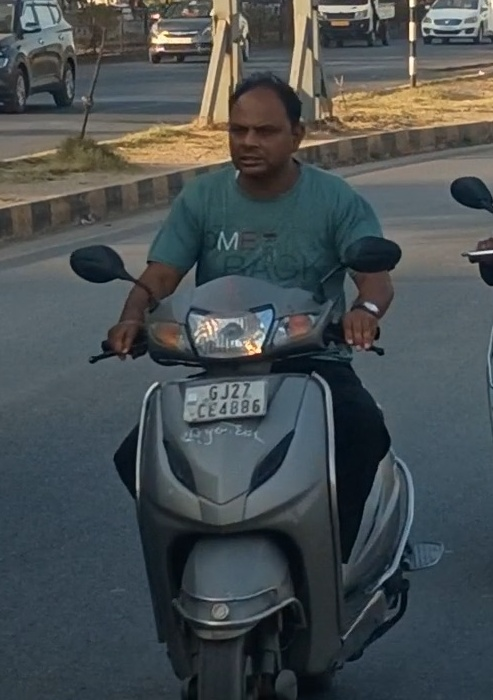BikeWithRider: (65, 68, 448, 700)
NoHelmet: (222, 71, 309, 181)
